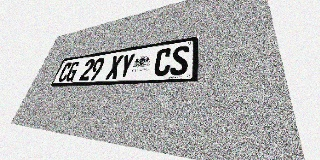2: (79, 59, 96, 81)
9: (88, 57, 106, 80)
C: (153, 47, 173, 77), (57, 62, 73, 82)
G: (64, 61, 81, 82)
S: (170, 45, 190, 76)
X: (105, 55, 124, 79)
Y: (117, 53, 136, 79)
